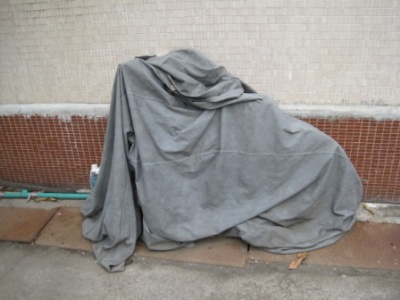plastic_bag: (82, 51, 363, 272)
